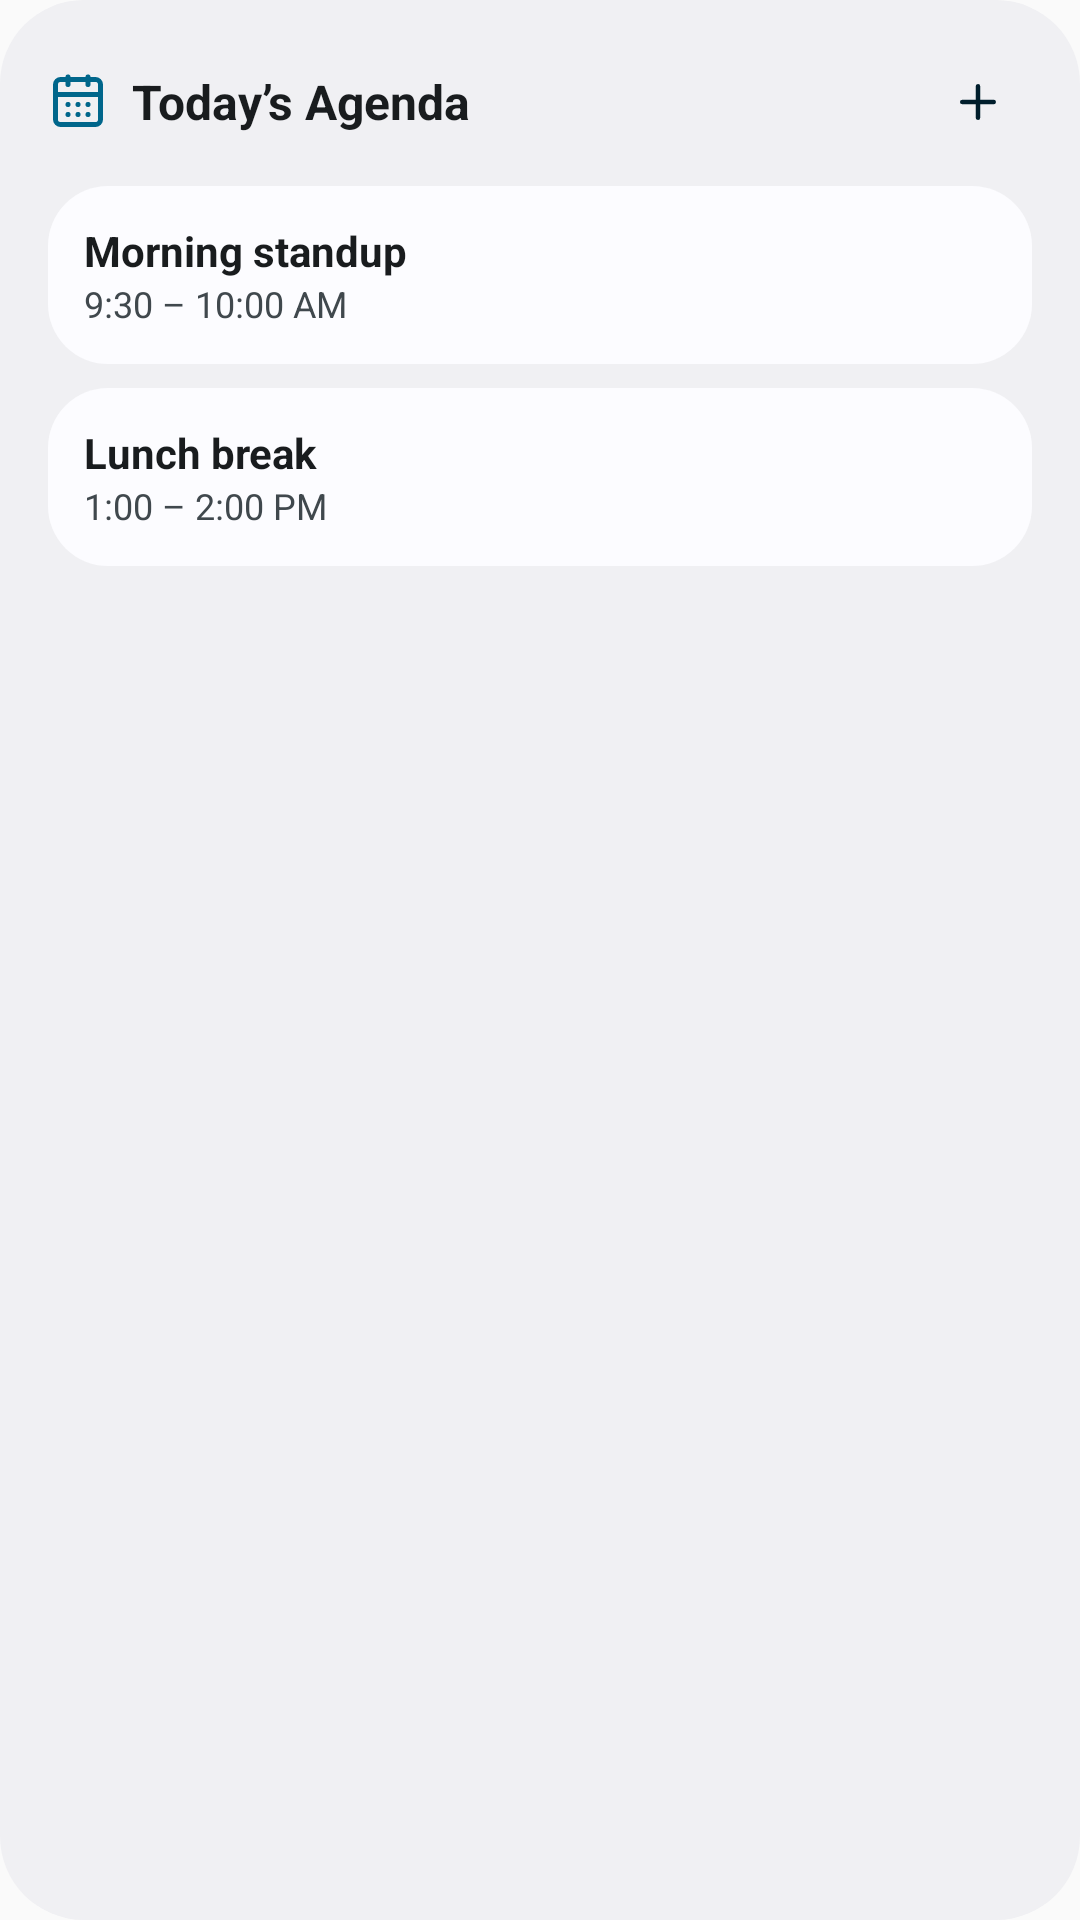

Point at icon controls on the screen. Image size 1080*1920, points as (x,y).
add: (978,102)
calendar: (78,100)
